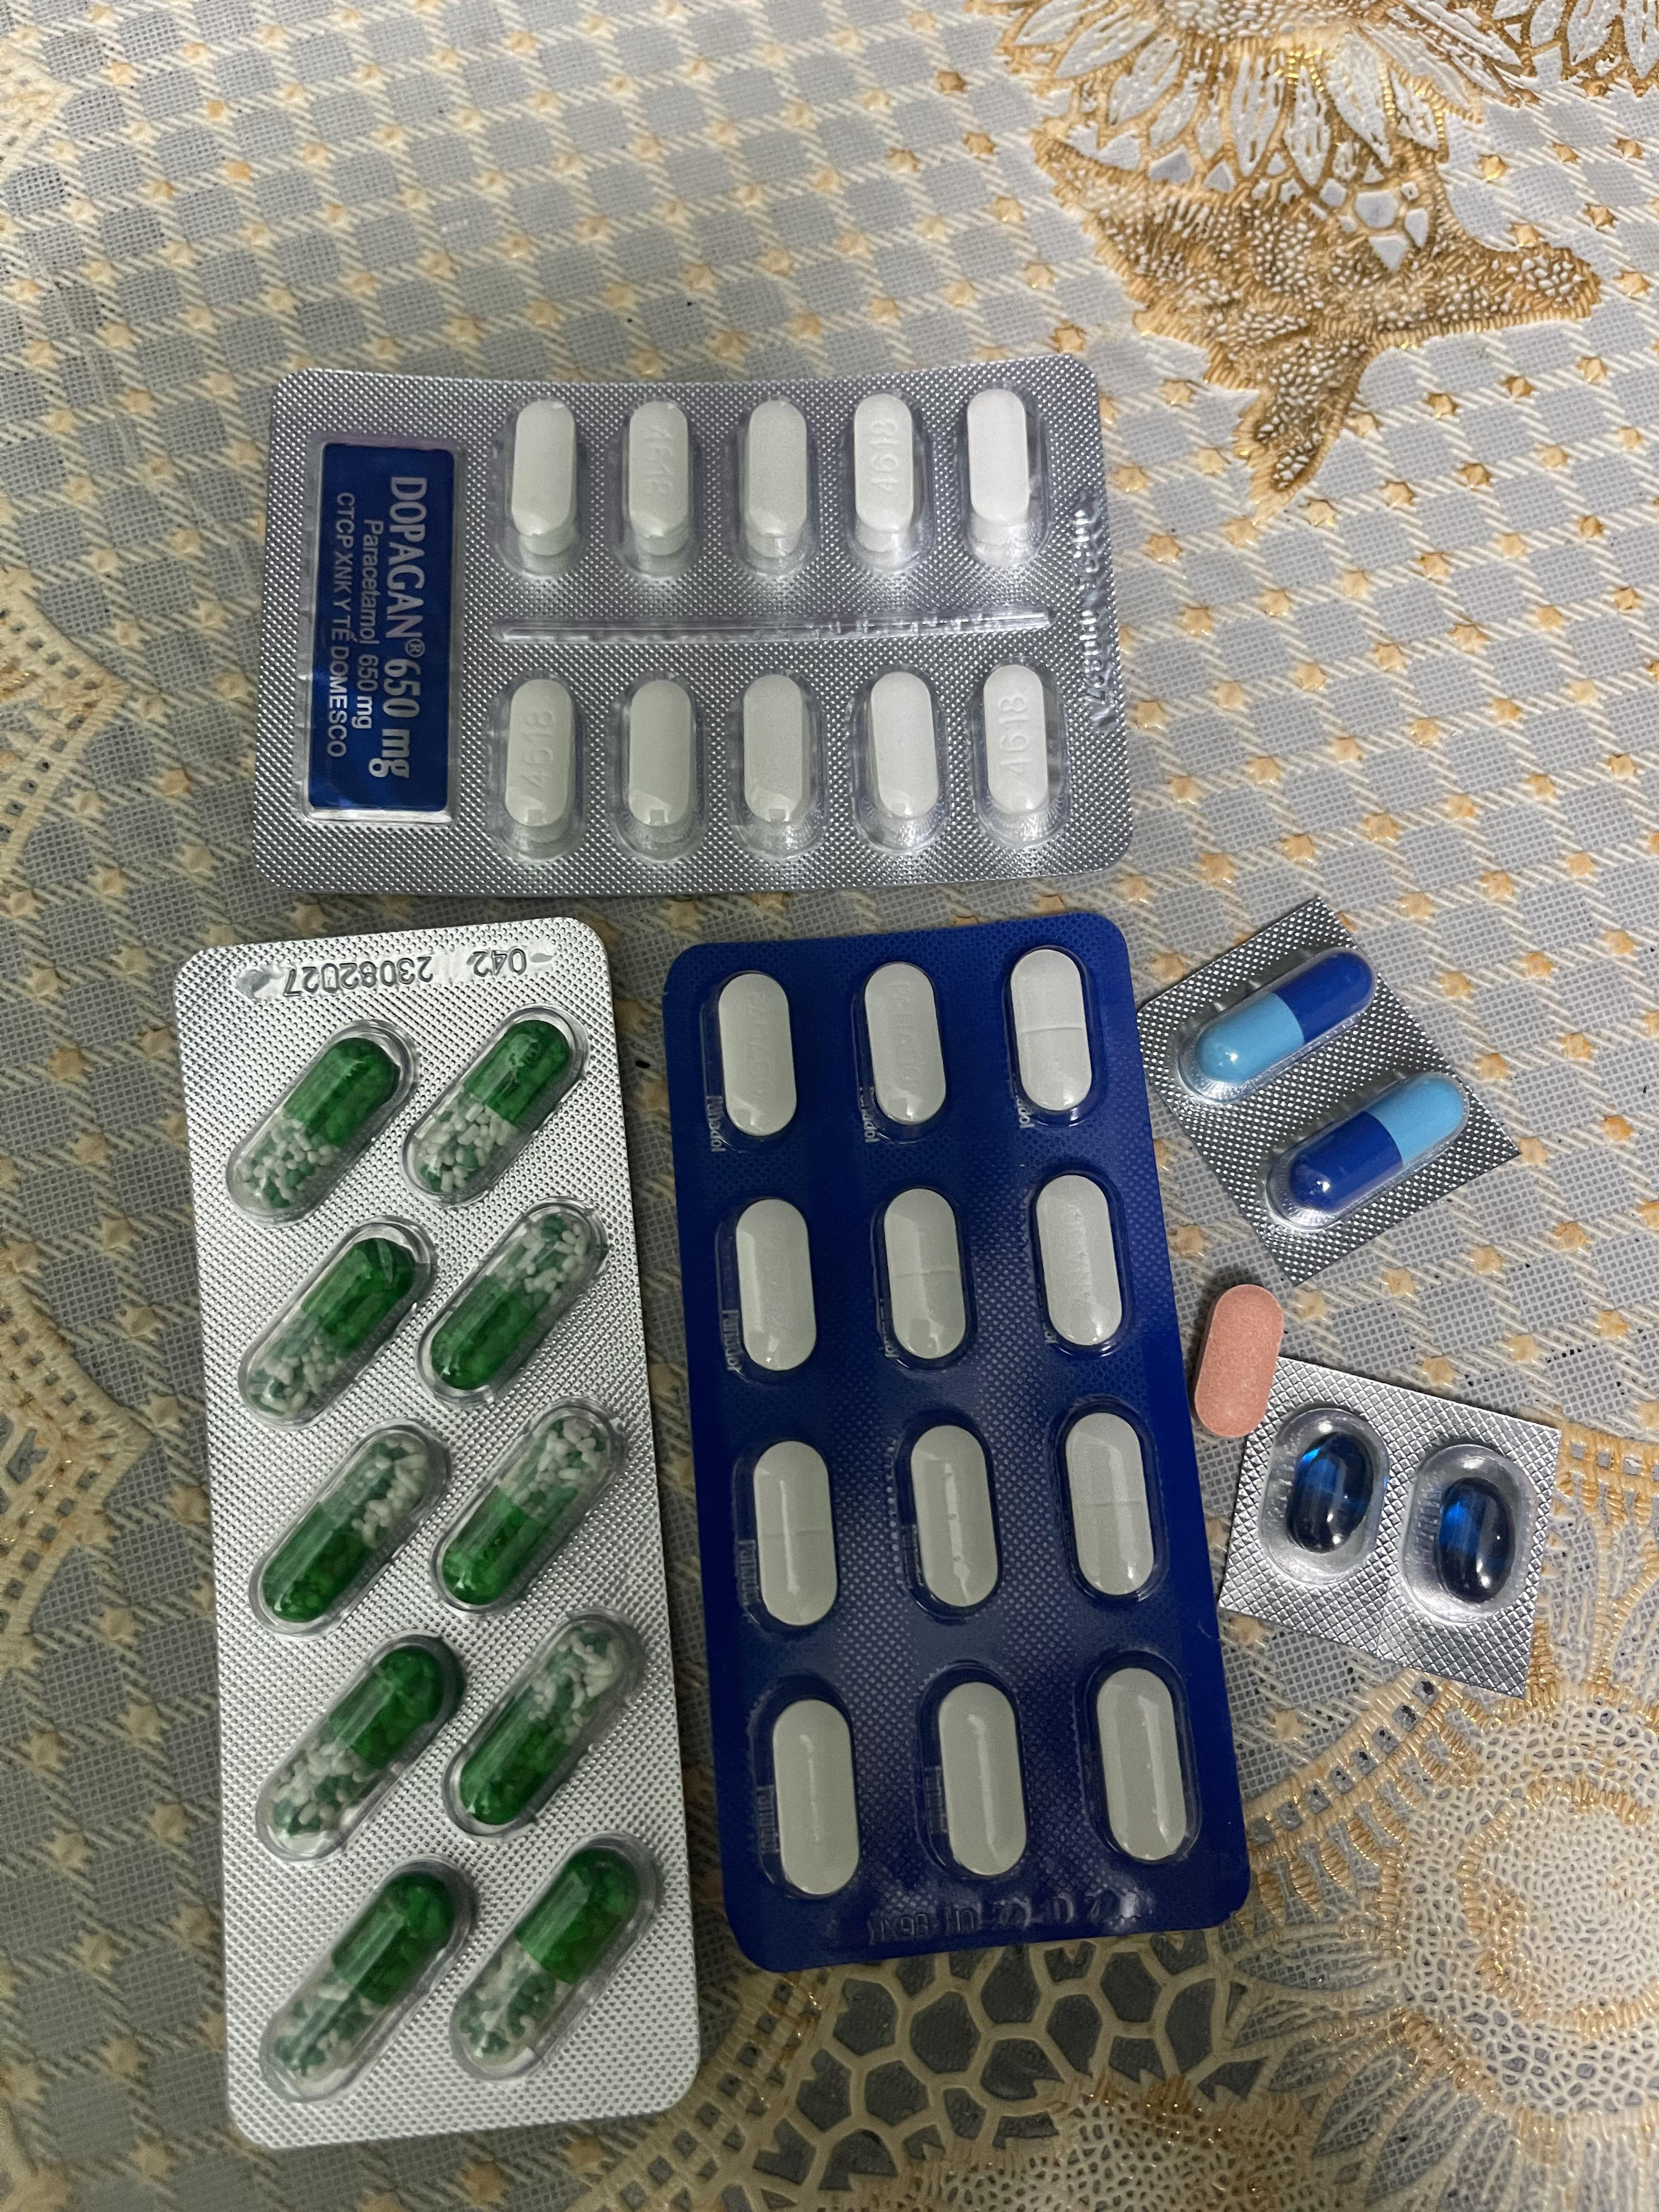Lincomyxin_500mg: (1286, 1433, 1371, 1554), (1434, 1477, 1513, 1602)
Loratadine_10mg: (1190, 1282, 1281, 1439)
Paracetamol_350mg: (749, 1681, 866, 1907), (1082, 1653, 1199, 1874), (918, 1667, 1033, 1886), (1051, 1395, 1164, 1608), (896, 1413, 1006, 1620), (748, 1440, 840, 1634), (873, 1186, 972, 1366), (1032, 1170, 1126, 1352), (1007, 949, 1096, 1123), (732, 1202, 817, 1379), (861, 963, 948, 1134), (716, 972, 796, 1144)
Paracetamol_500mg: (842, 387, 936, 573), (964, 388, 1037, 568), (511, 399, 582, 573), (626, 399, 695, 573), (739, 399, 809, 573), (741, 674, 814, 838), (979, 665, 1053, 829), (866, 674, 941, 831), (624, 678, 695, 836), (504, 678, 575, 833)
Paracetamol_650mg: (254, 1855, 476, 2106), (249, 1627, 465, 1864), (244, 1420, 453, 1639), (444, 1611, 647, 1838), (234, 1217, 437, 1432), (453, 1844, 647, 2069), (432, 1400, 627, 1618), (225, 1022, 418, 1223), (416, 1198, 606, 1402), (404, 1007, 586, 1202)
pill: (1281, 1075, 1466, 1224), (1194, 949, 1375, 1090)
